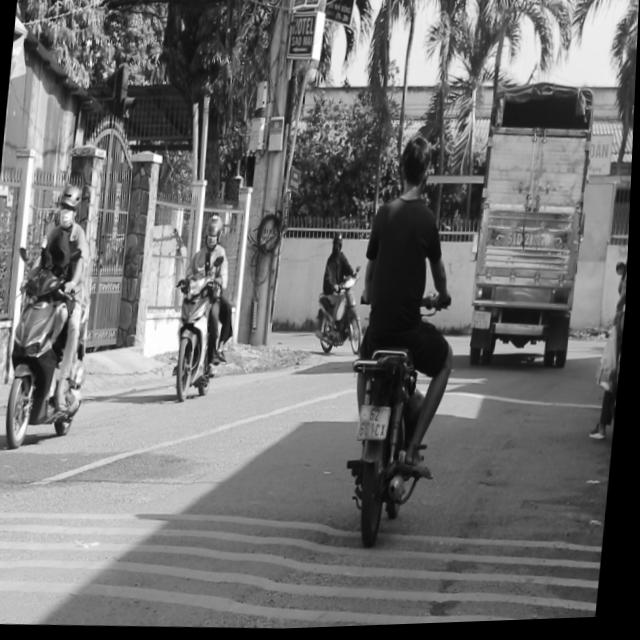helmet: (57, 181, 83, 225), (204, 214, 223, 248)
licenseplate: (334, 130, 475, 542), (1, 176, 107, 452), (168, 211, 244, 404), (593, 193, 633, 449)
motorcyclist: (397, 134, 435, 198)
nohelmet: (361, 407, 392, 441)
